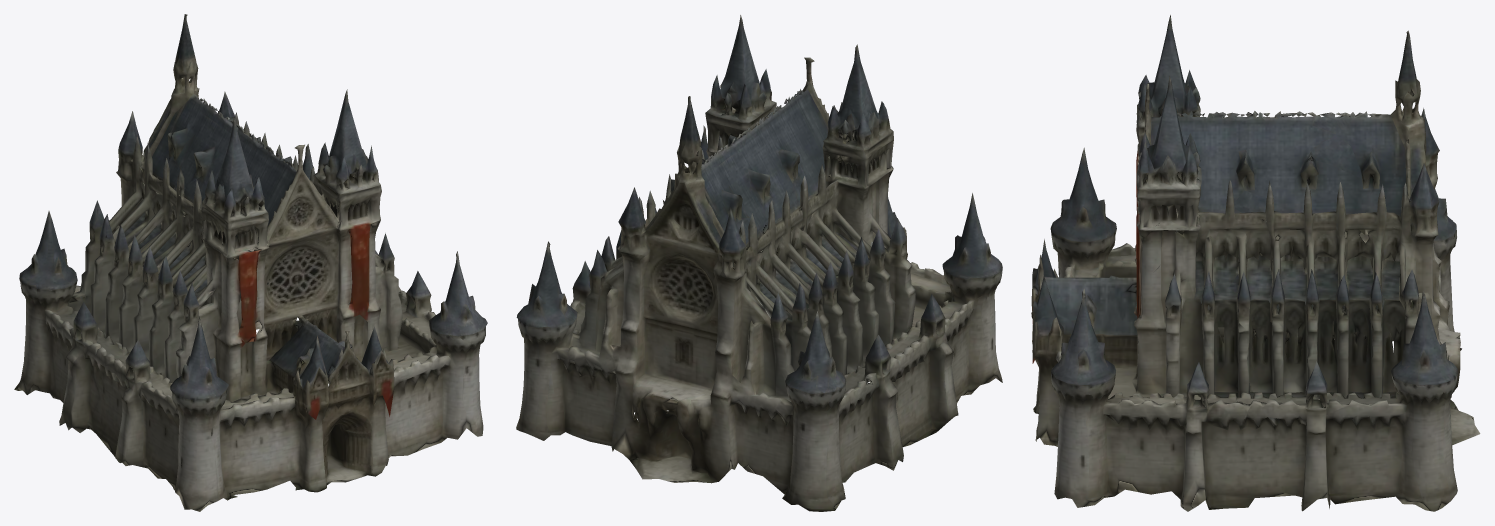
File: capitol-jilliath.glb
3 renders of one model, left to right at view 1: azimuth 30°, elevation 25°; view 2: azimuth 150°, elevation 25°; view 3: azimuth 270°, elevation 25°, orthographic. The views are drawn at different scales.
Parts seen in each view (by area): view 1: geometry_0; view 2: geometry_0; view 3: geometry_0.
Part boxes in pixels (box(x1,y1,x2,y2)): geometry_0: box(14, 14, 487, 511); geometry_0: box(516, 15, 1002, 511); geometry_0: box(1031, 15, 1480, 511).
Size of the model in its own units: 0.9324 by 0.9683 by 0.9922.
Materials: 1 (1 with a texture image).
